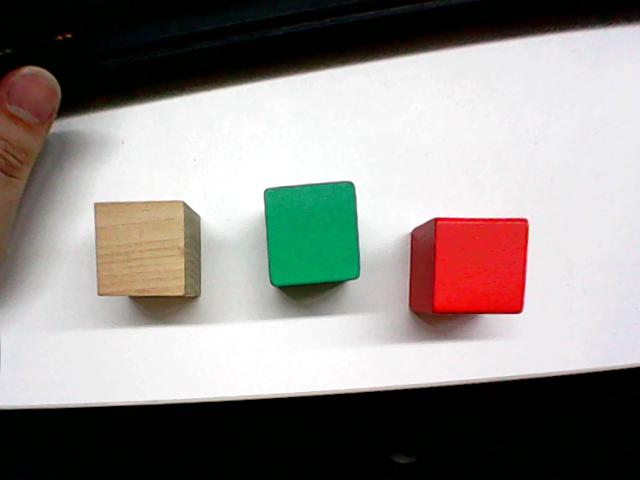green_box: (260, 177, 363, 289)
raw_box: (91, 196, 203, 300)
red_box: (406, 211, 532, 319)
